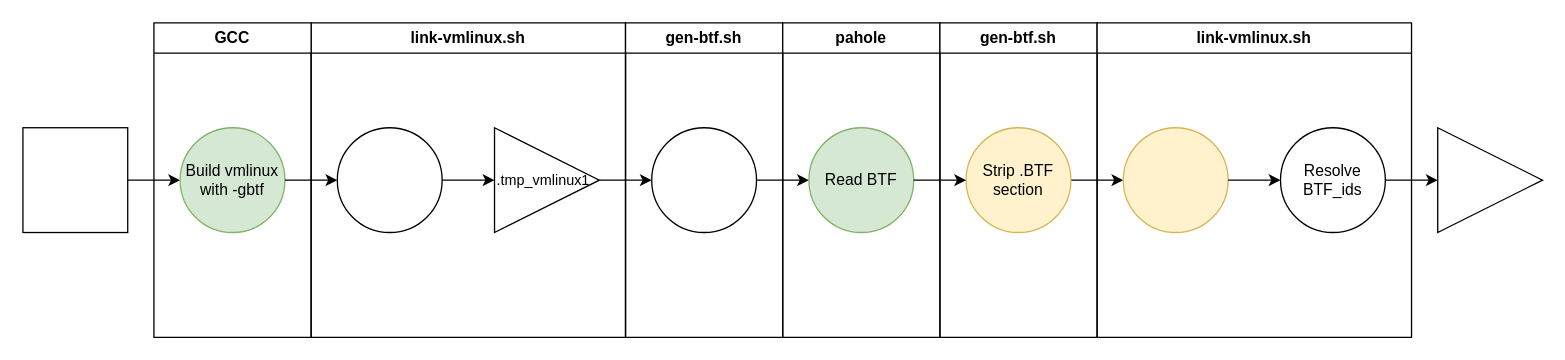
Image size: 1565x360. Some labels were removed from this diagram. The box of each missing label's shape, as (x1, y1, x2, y2) in pixels:
$ make vmlinux: (22, 126, 128, 233)
Initial link: (336, 126, 442, 233)
Link section with vmlinux: (1122, 126, 1228, 233)
Select mode: (650, 126, 757, 233)
vmlinux: (1436, 126, 1543, 233)
